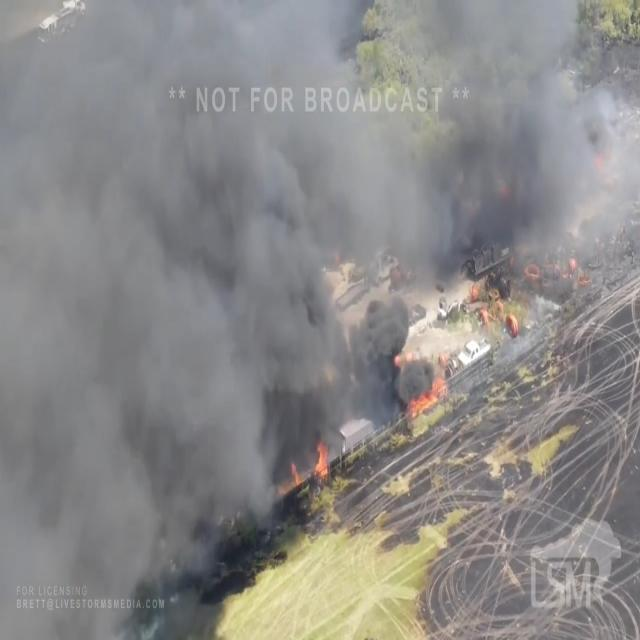Smoke: (11, 13, 280, 567)
